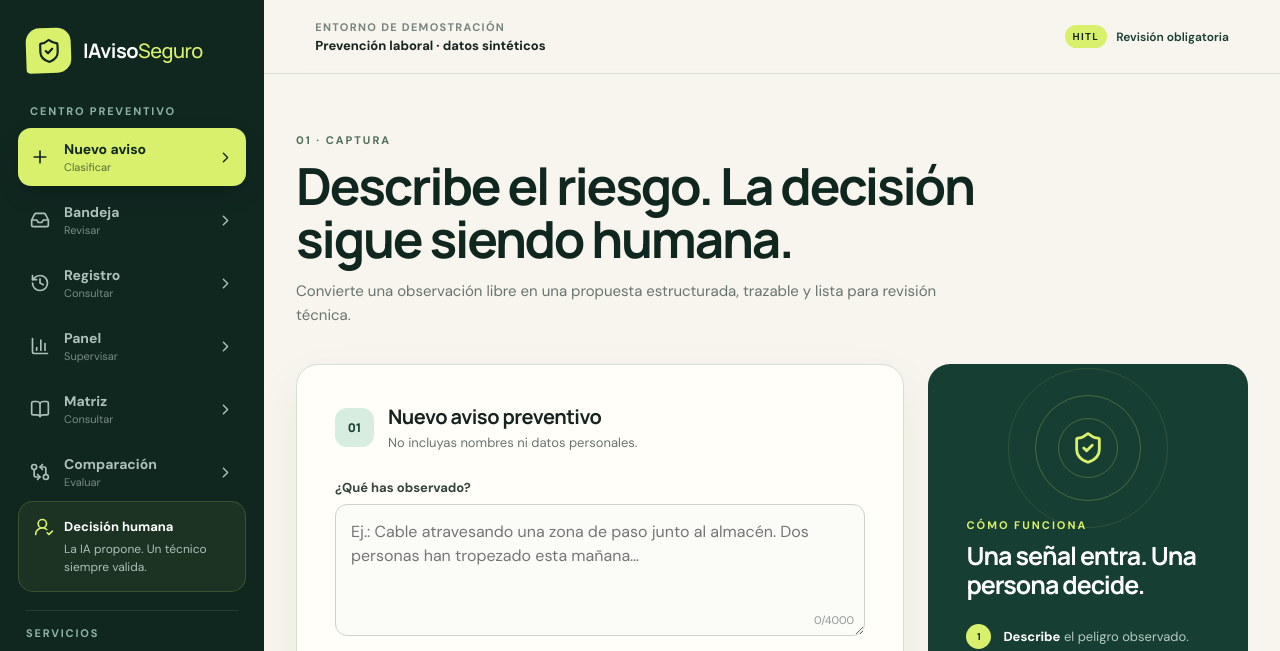
Test: IAviso Seguro › permite navegar a la bandeja
Click the button "Bandeja Revisar": (132, 220) top-left (18, 191), bottom-right (246, 249)
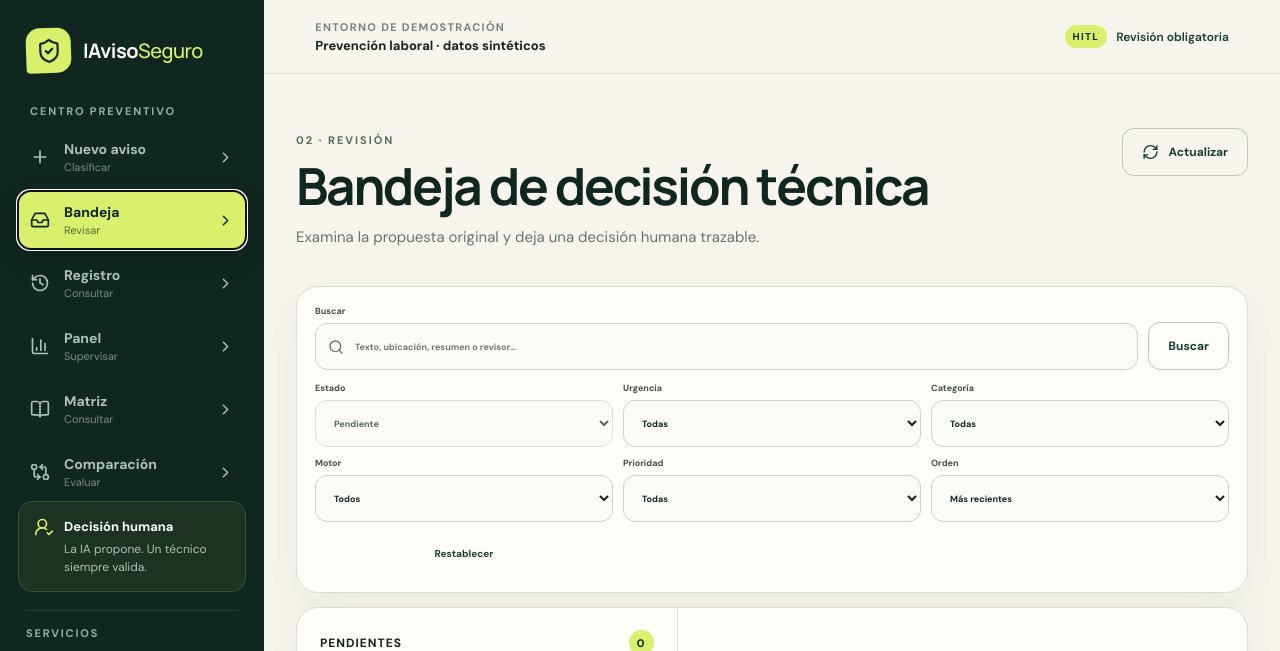
Result: the heading "Bandeja de decisión técnica" is shown at top-left (296, 159), bottom-right (928, 212)
